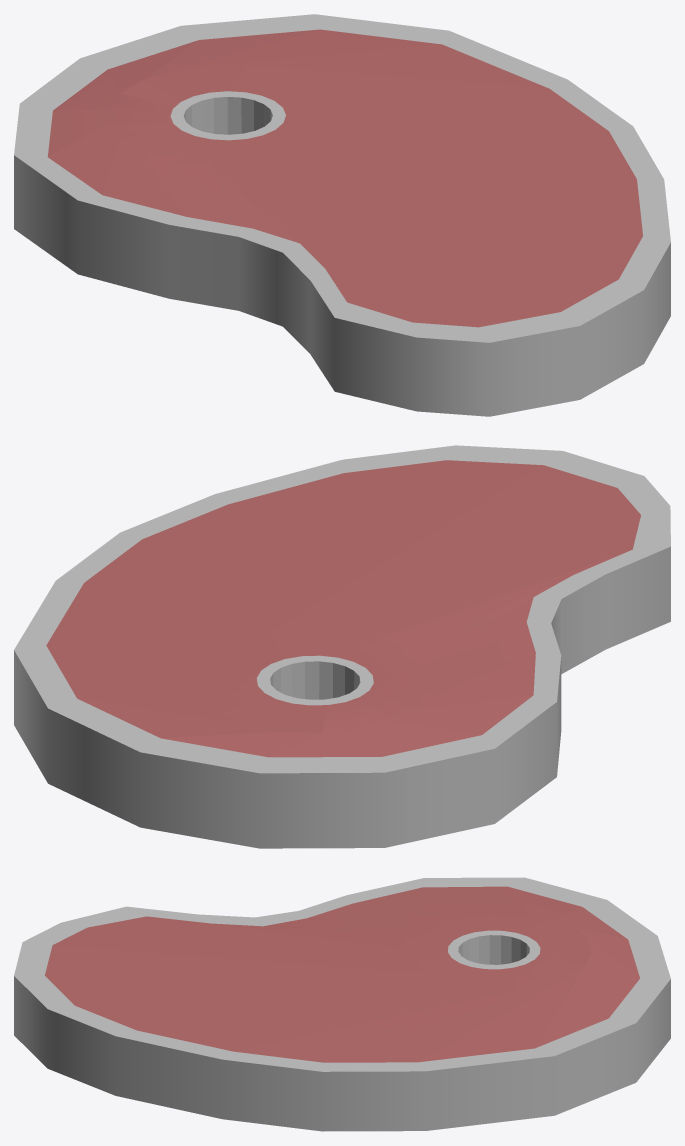
Rendered from Steak.fbx.
3 renders of one model, top to bottom at view 1: azimuth 30°, elevation 25°; view 2: azimuth 150°, elevation 25°; view 3: azimuth 270°, elevation 25°, orthographic. The views are drawn at different scales.
Parts seen in each view (by area): view 1: Steak; view 2: Steak; view 3: Steak.
Part boxes in pixels (x1,y1,x2,y2): Steak: (14, 14, 670, 416); Steak: (14, 445, 670, 848); Steak: (14, 877, 670, 1131).
Size of the model in its own units: 0.129 by 0.0213 by 0.1842.
